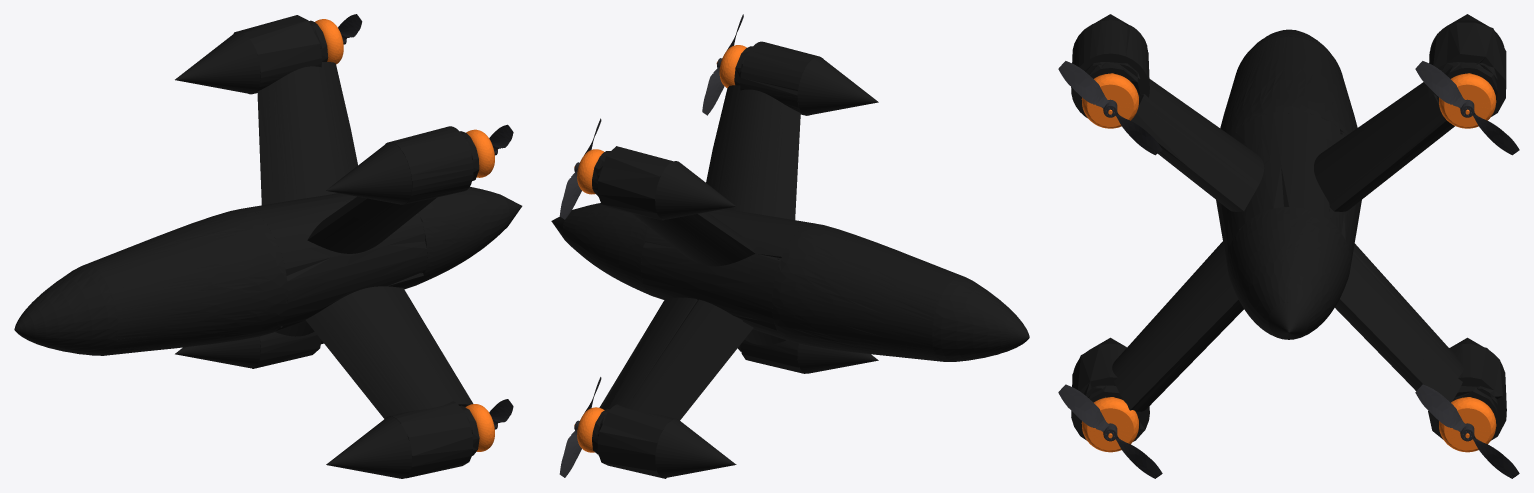
Rendered from icept_x4.glb.
3 renders of one model, left to right at view 1: azimuth 30°, elevation 25°; view 2: azimuth 150°, elevation 25°; view 3: azimuth 270°, elevation 25°, orthographic. The views are drawn at different scales.
Parts seen in each view (by area): view 1: wings, body, tail, nose, nacelle_2, nacelle_4, nacelle_3, nacelle_1, motor_2, motor_3, motor_1; view 2: wings, body, tail, nose, nacelle_2, nacelle_1, nacelle_4, nacelle_3, motor_1, motor_4, prop_4, prop_1 (+2 smaller); view 3: wings, nose, body, prop_3, prop_4, prop_2, prop_1, motor_1, motor_3, motor_4, motor_2, nose_tip.
Part boxes in pixels (box(x1,y1,x2,y2)): wings: box(233, 15, 479, 478); body: box(82, 208, 287, 355); tail: box(14, 265, 118, 355); nose: box(416, 187, 510, 285); nacelle_2: box(175, 31, 260, 93); nacelle_4: box(326, 142, 411, 204); nacelle_3: box(326, 416, 412, 478); nacelle_1: box(175, 336, 260, 368); motor_2: box(465, 404, 494, 451); motor_3: box(466, 129, 497, 177); motor_1: box(315, 19, 343, 64); wings: box(592, 41, 822, 478); body: box(772, 223, 963, 361); tail: box(932, 276, 1029, 361); nose: box(562, 203, 650, 295); nacelle_2: box(655, 161, 735, 219); nacelle_1: box(655, 419, 736, 477); nacelle_4: box(797, 56, 878, 115); nacelle_3: box(797, 343, 878, 373); motor_1: box(574, 149, 603, 194); motor_4: box(574, 407, 604, 452); prop_4: box(559, 377, 601, 477); prop_1: box(559, 118, 601, 219); wings: box(1071, 20, 1506, 441); nose: box(1227, 206, 1350, 339); body: box(1220, 36, 1357, 135); prop_3: box(1058, 384, 1162, 478); prop_4: box(1415, 384, 1519, 478); prop_2: box(1058, 61, 1162, 155); prop_1: box(1415, 61, 1519, 155); motor_1: box(1439, 73, 1496, 128); motor_3: box(1081, 73, 1138, 128); motor_4: box(1439, 397, 1496, 452); motor_2: box(1081, 397, 1138, 452); nose_tip: box(1268, 302, 1309, 339).
Size of the model in its own units: 0.2523 by 0.1682 by 0.1682.
